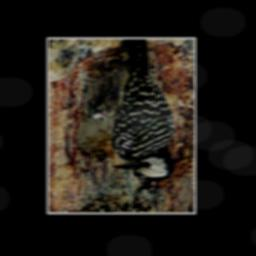Woodpecker: (80, 38, 181, 186)
